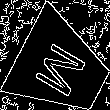M_SE: (31, 36, 93, 100)
